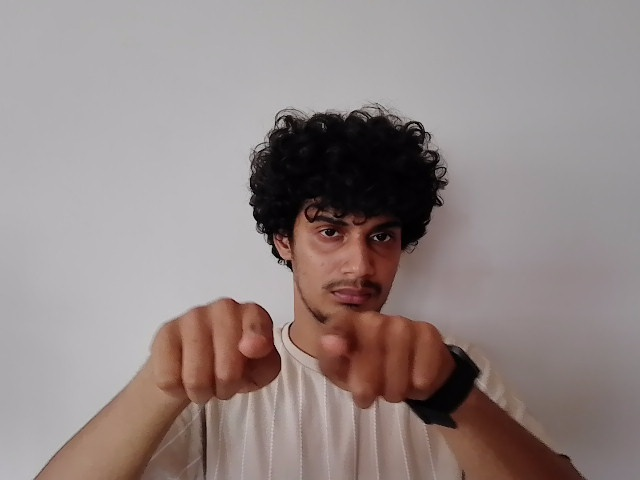same: (150, 295, 447, 412)
